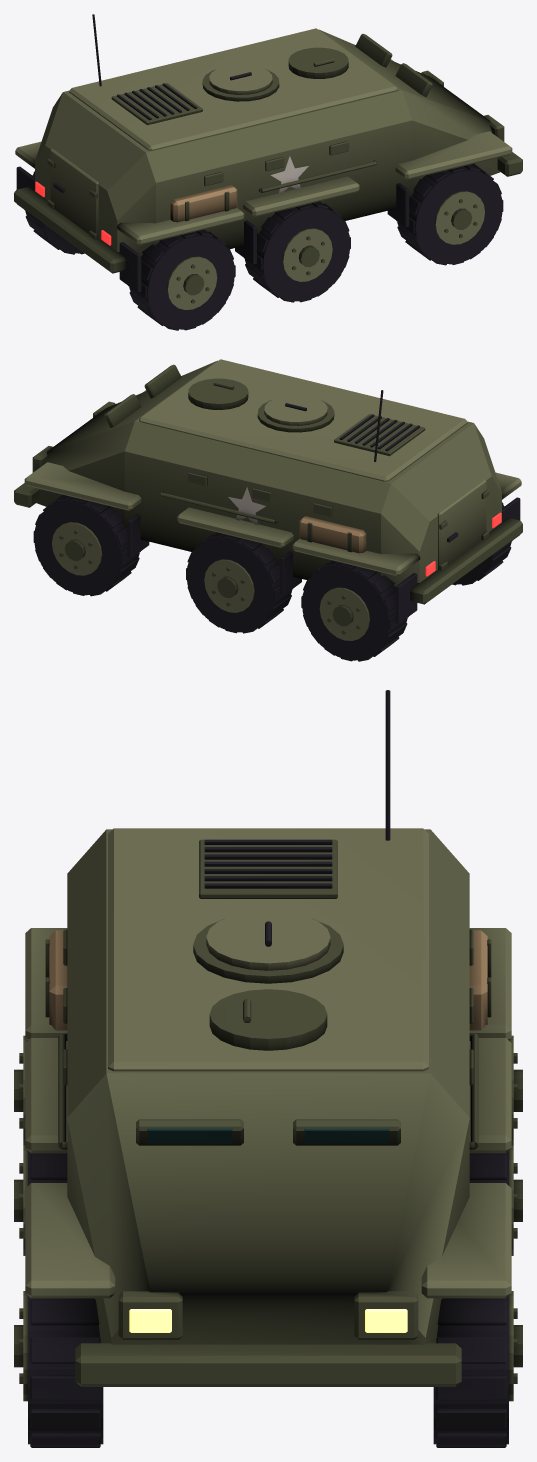
File: model.unarmed.glb
The picture shows the model from 3 angles, top to bottom: view 1: azimuth 30°, elevation 25°; view 2: azimuth 150°, elevation 25°; view 3: azimuth 270°, elevation 25°; orthographic projection. The views are drawn at different scales.
Visible parts, largest first — view 1: body_pal_picketWhite, wheelRL_pal_picketWhite, wheelFL_pal_picketWhite, wheelML_pal_picketWhite, wheelRR_pal_picketWhite; view 2: body_pal_picketWhite, wheelRR_pal_picketWhite, wheelFR_pal_picketWhite, wheelMR_pal_picketWhite, wheelRL_pal_picketWhite; view 3: body_pal_picketWhite, wheelFL_pal_picketWhite, wheelFR_pal_picketWhite, wheelML_pal_picketWhite, wheelMR_pal_picketWhite, lightsFront_emi_windowGlow.
Boxes of the visible parts, x1,y1,x2,y2 form: body_pal_picketWhite: (14,14,522,292); wheelRL_pal_picketWhite: (128,229,235,330); wheelFL_pal_picketWhite: (396,164,503,265); wheelML_pal_picketWhite: (244,201,350,302); wheelRR_pal_picketWhite: (25,171,84,254); body_pal_picketWhite: (14,359,522,623); wheelRR_pal_picketWhite: (301,560,408,661); wheelFR_pal_picketWhite: (33,494,140,596); wheelMR_pal_picketWhite: (186,532,292,633); wheelRL_pal_picketWhite: (452,502,511,585); body_pal_picketWhite: (25,690,511,1386); wheelFL_pal_picketWhite: (14,1291,103,1447); wheelFR_pal_picketWhite: (433,1291,522,1447); wheelML_pal_picketWhite: (14,1145,67,1255); wheelMR_pal_picketWhite: (469,1145,522,1255); lightsFront_emi_windowGlow: (129,1309,407,1332).
Bounding box in the file's own units: 5.69 × 3.28 × 3.11.
